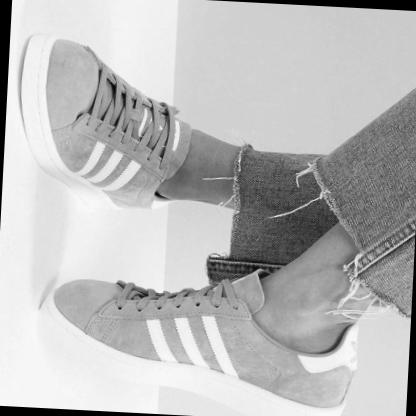ankle: (303, 312, 308, 317), (169, 194, 173, 198)
heel: (115, 204, 121, 209), (339, 399, 344, 403)
left_foot: (14, 34, 195, 217)
pinky: (56, 125, 60, 129), (88, 282, 91, 285)
right_foot: (25, 257, 360, 416)
toe: (65, 42, 70, 48), (59, 308, 63, 312)
